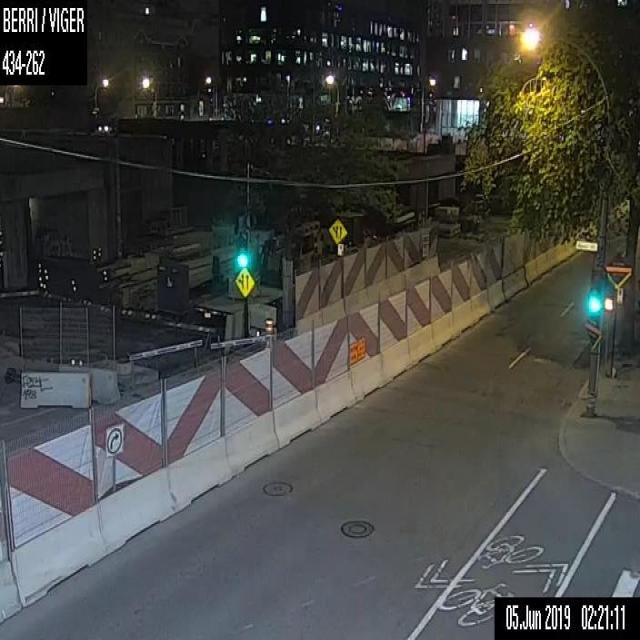construction: (0, 116, 639, 621), (264, 316, 274, 341)
